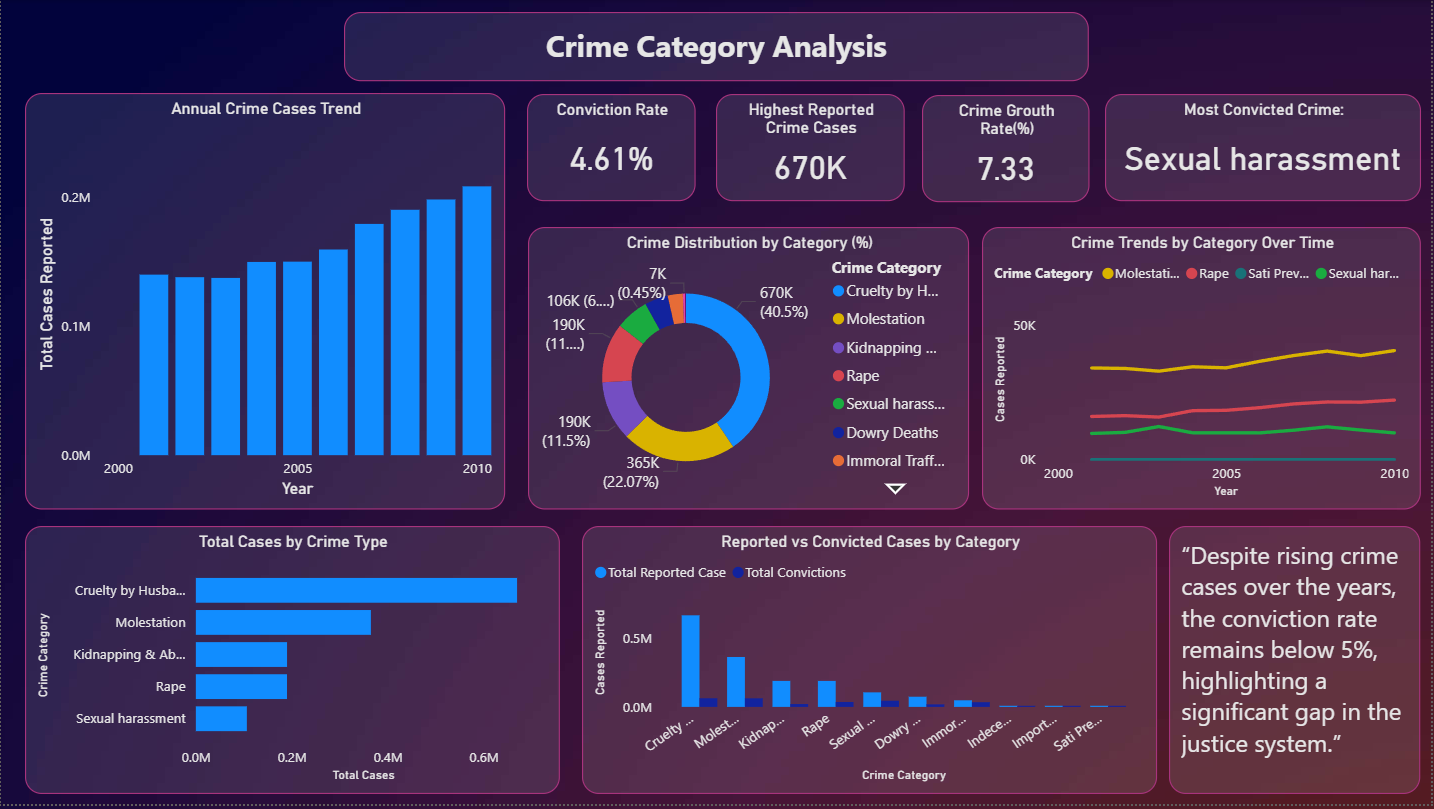

This screenshot's page, from the dashboard's own definition file:
{"tool":"powerbi","page":{"name":"Crime Category Analysis","canvas":[1280,720],"ordinal":2},"visuals":[{"type":"clusteredColumnChart","title":"Annual Crime Cases Trend","fields":{"Category":["CrimeData.Year"],"Y":["Sum(CrimeData.Cases_Reported)"]},"box":[21.7,83.3,430,373.3],"z":0},{"type":"clusteredBarChart","title":"Total Cases by Crime Type","fields":{"Category":["CrimeData.Group_Name"],"Y":["Sum(CrimeData.Cases_Reported)"]},"box":[21.2,471.2,478.8,240],"z":1000},{"type":"donutChart","title":"Crime Distribution by Category (%)","fields":{"Category":["CrimeData.Group_Name"],"Y":["Sum(CrimeData.Cases_Reported)"]},"box":[471.7,203.3,395,253.3],"z":2000},{"type":"lineChart","title":"Crime Trends by Category Over Time","fields":{"Category":["CrimeData.Year"],"Y":["Sum(CrimeData.Cases_Reported)"],"Series":["CrimeData.Group_Name"]},"box":[878.3,203.3,393.3,253.3],"z":3000},{"type":"textbox","box":[307.4,11,666.9,61.7],"z":4000},{"type":"card","title":"Highest Reported Crime Cases","fields":{"Values":["CrimeData.Top Crime Value"]},"box":[640,83.8,168.8,96.2],"z":5000},{"type":"card","title":"Conviction Rate","fields":{"Values":["CrimeData.Conviction Rate"]},"box":[471.2,83.8,151.2,96.2],"z":6000},{"type":"card","title":"Crime Grouth Rate(%)","fields":{"Values":["CrimeData.Growth %"]},"box":[825,85,150,96.2],"z":7000},{"type":"clusteredColumnChart","title":"Reported vs Convicted Cases by Category","fields":{"Y":["Sum(CrimeData.Cases_Reported)","Sum(CrimeData.Cases_Convicted)"],"Category":["CrimeData.Group_Name"]},"box":[520,471.2,515,240],"z":8000},{"type":"card","title":"Most Convicted Crime:","fields":{"Values":["CrimeData.Top Crime"]},"box":[988.8,83.8,282.5,96.2],"z":9000},{"type":"textbox","box":[1046.2,471.2,225,240],"z":10000}]}

Visuals, with their boxes in screenshot pixels (x1, y1, x2, y2), scaled from the page's 1280x720 canvas onto the 1434x809 screenshot:
"Annual Crime Cases Trend" clusteredColumnChart: 24 94 506 513
"Total Cases by Crime Type" clusteredBarChart: 24 529 560 799
"Crime Distribution by Category (%)" donutChart: 528 228 971 513
"Crime Trends by Category Over Time" lineChart: 984 228 1425 513
textbox: 344 12 1092 82
"Highest Reported Crime Cases" card: 717 94 906 202
"Conviction Rate" card: 528 94 697 202
"Crime Grouth Rate(%)" card: 924 96 1092 204
"Reported vs Convicted Cases by Category" clusteredColumnChart: 583 529 1160 799
"Most Convicted Crime:" card: 1108 94 1424 202
textbox: 1172 529 1424 799
